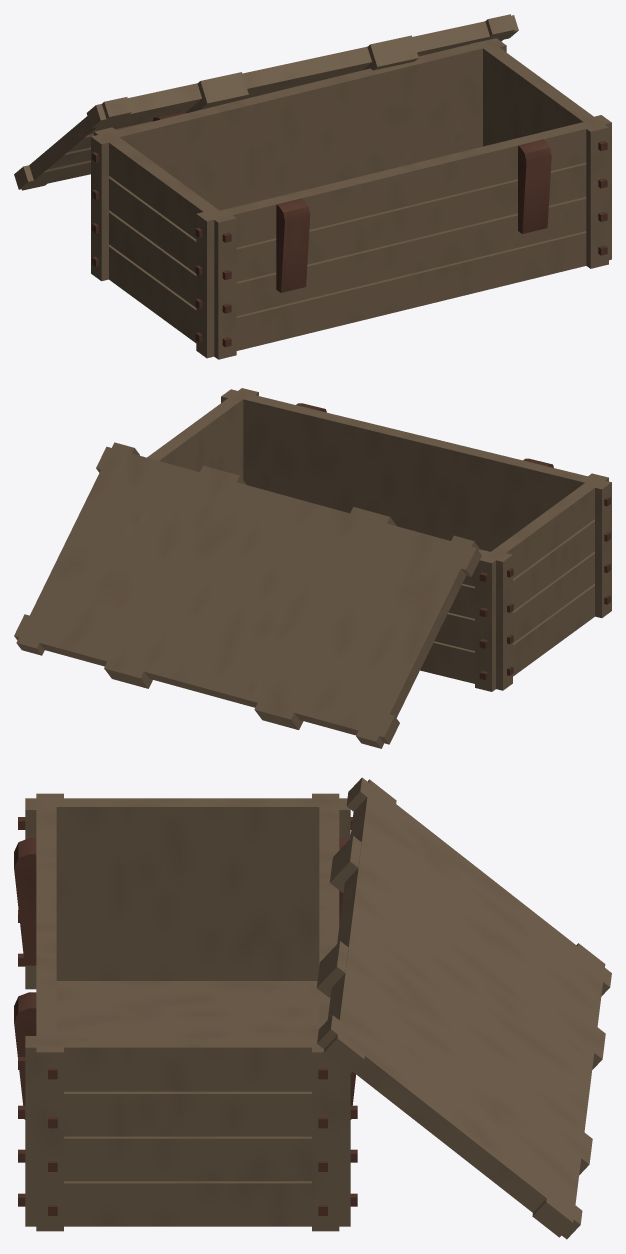
Rendered from BoxOpen2.fbx.
The picture shows the model from 3 angles, top to bottom: view 1: azimuth 30°, elevation 25°; view 2: azimuth 150°, elevation 25°; view 3: azimuth 270°, elevation 25°; orthographic projection. The views are drawn at different scales.
Visible parts, largest first — view 1: Cube.056; view 2: Cube.056; view 3: Cube.056.
Part boxes in pixels (left/top/right/bottom): Cube.056: left=14, top=14, right=611, bottom=359; Cube.056: left=14, top=388, right=611, bottom=748; Cube.056: left=14, top=777, right=611, bottom=1239.
Size of the model in its own units: 156 by 56.26 by 142.
